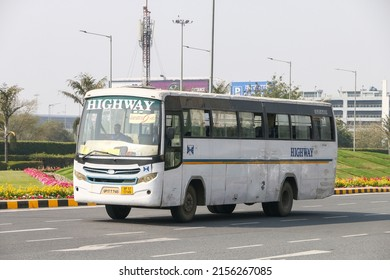bus: (73, 87, 335, 224)
